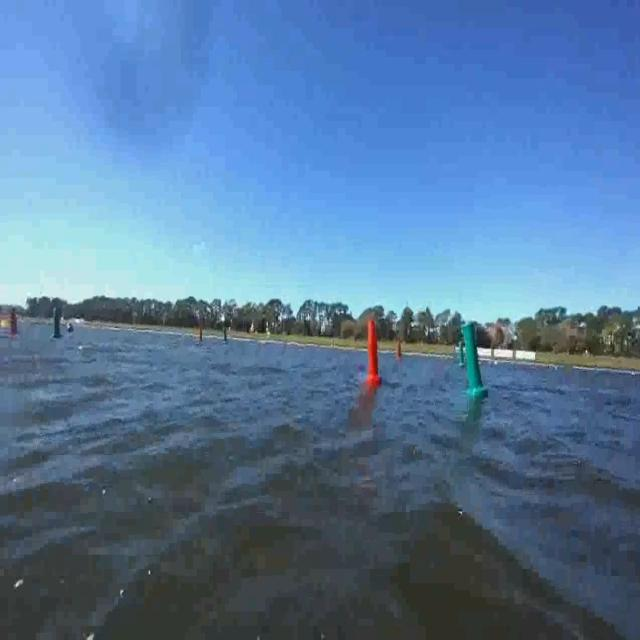blue-buoy: (67, 320, 75, 334)
green-column-buoy: (460, 321, 488, 398), (52, 307, 67, 342), (222, 326, 228, 344)
red-column-buoy: (364, 315, 381, 384), (7, 307, 20, 338), (395, 338, 403, 362), (199, 326, 205, 345)
